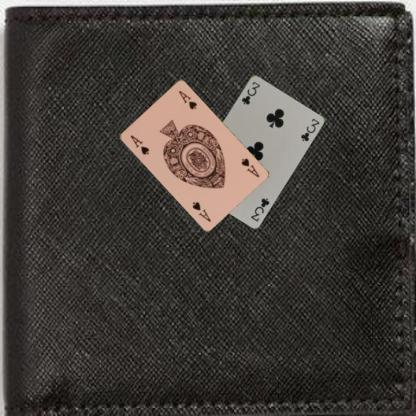3c: (248, 196, 271, 223), (239, 78, 261, 106)
As: (128, 132, 150, 156), (238, 156, 261, 178)
